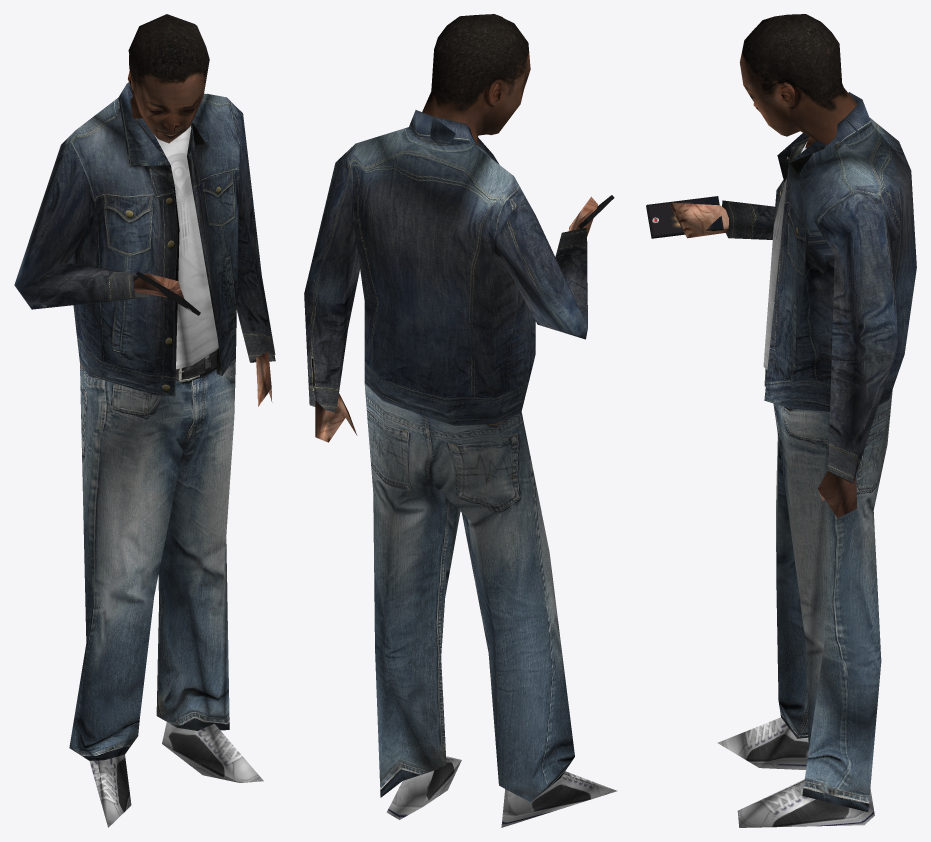
File: PasserBy_Phone_LOD2.obj
3 views of the same model, side by side, from view 1: azimuth 30°, elevation 25°; view 2: azimuth 150°, elevation 25°; view 3: azimuth 270°, elevation 25° (orthographic). The views are drawn at different scales.
Parts seen in each view (by area): view 1: Body, Head; view 2: Body, Head; view 3: Body, Head, PropScreen.
Boxes of the visible parts, x1,y1,x2,y2 form: Body: [14, 82, 275, 827]; Head: [128, 14, 209, 143]; Body: [304, 110, 617, 827]; Head: [422, 14, 530, 145]; Body: [670, 92, 916, 827]; Head: [739, 14, 857, 147]; PropScreen: [648, 197, 721, 235].
Bounding box in the file's own units: 0.6407 × 1.77 × 0.5569.
4 materials, 4 textured.
